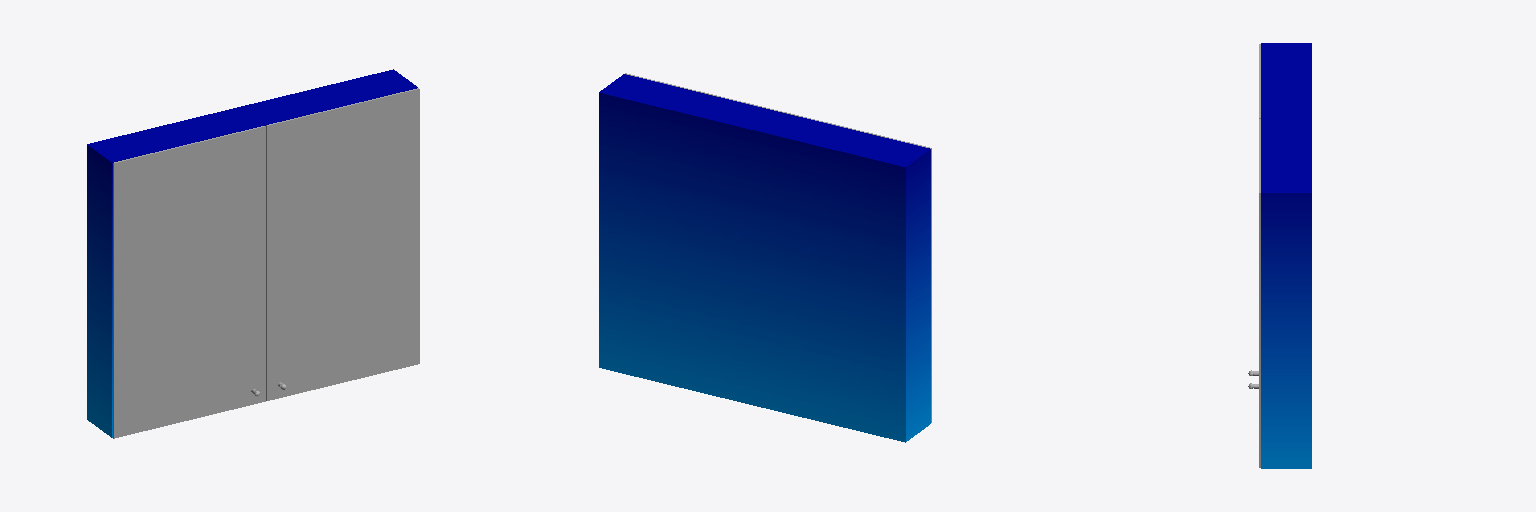
3 renders of one model, left to right at view 1: azimuth 30°, elevation 25°; view 2: azimuth 150°, elevation 25°; view 3: azimuth 270°, elevation 25°, orthographic.
Parts seen in each view (by area): view 1: sweethome3d_window_mirror, Box29_6; view 2: Box29_6, sweethome3d_window_mirror; view 3: Box29_6, sweethome3d_window_mirror.
Part boxes in pixels (x1,y1,x2,y2): sweethome3d_window_mirror: (113, 88, 419, 438); Box29_6: (87, 69, 417, 437); Box29_6: (599, 74, 930, 442); sweethome3d_window_mirror: (625, 73, 931, 422); Box29_6: (1261, 43, 1311, 468); sweethome3d_window_mirror: (1259, 44, 1260, 467).
Bounding box in the file's own units: 70 × 60 × 12.5.
Materials: 2 (1 with a texture image).